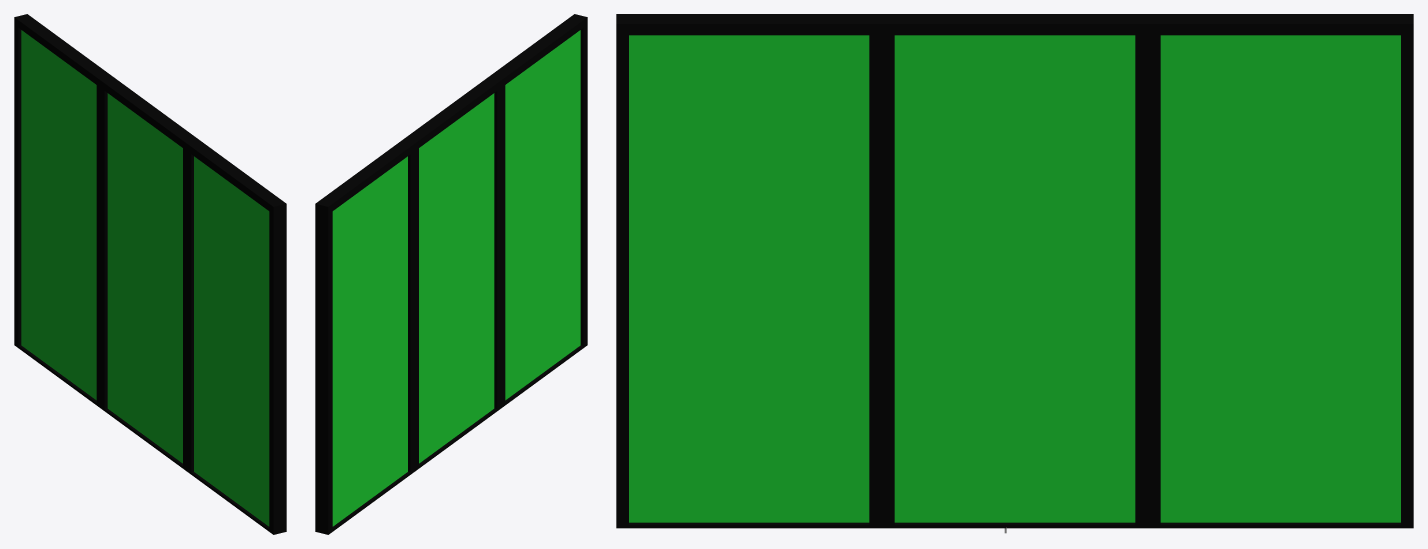
File: singel_wall_new.fbx
3 renders of one model, left to right at view 1: azimuth 30°, elevation 25°; view 2: azimuth 150°, elevation 25°; view 3: azimuth 270°, elevation 25°, orthographic. The views are drawn at different scales.
Parts seen in each view (by area): view 1: wall:wall_1; view 2: wall:wall_1; view 3: wall:wall_1.
Part boxes in pixels (x1,y1,x2,y2): wall:wall_1: [14, 14, 286, 534]; wall:wall_1: [315, 14, 587, 534]; wall:wall_1: [616, 14, 1413, 528].
Size of the model in its own units: 21.89 by 399 by 567.
